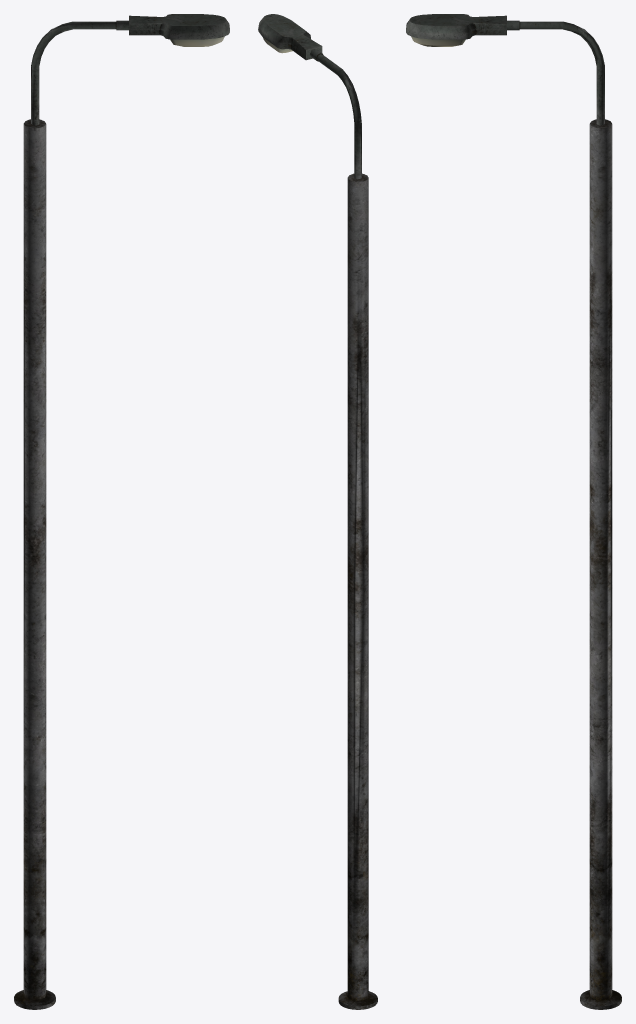
The model's file is Lampara.glb.
3 renders of one model, left to right at view 1: azimuth 90°, elevation 25°; view 2: azimuth 210°, elevation 25°; view 3: azimuth 270°, elevation 25°, orthographic. The views are drawn at different scales.
Parts seen in each view (by area): view 1: StreetLamp2_Tall; view 2: StreetLamp2_Tall; view 3: StreetLamp2_Tall.
Boxes of the visible parts, <box> form: StreetLamp2_Tall: <box>14,14,229,1009</box>; StreetLamp2_Tall: <box>258,14,377,1009</box>; StreetLamp2_Tall: <box>406,14,621,1009</box>.
Size of the model in its own units: 3.96 by 102 by 20.38.
1 material, 1 textured.
